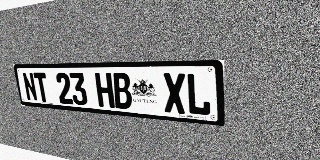2: (55, 73, 73, 104)
3: (69, 73, 88, 106)
B: (112, 73, 133, 110)
H: (94, 73, 115, 108)
L: (186, 73, 211, 116)
N: (22, 72, 38, 101)
T: (33, 72, 50, 102)
X: (162, 73, 186, 114)
